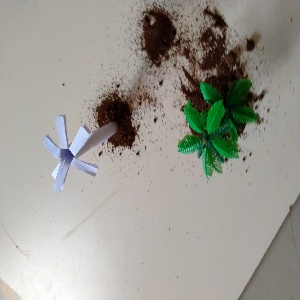plant: (175, 76, 249, 179)
weed: (40, 110, 123, 183)
